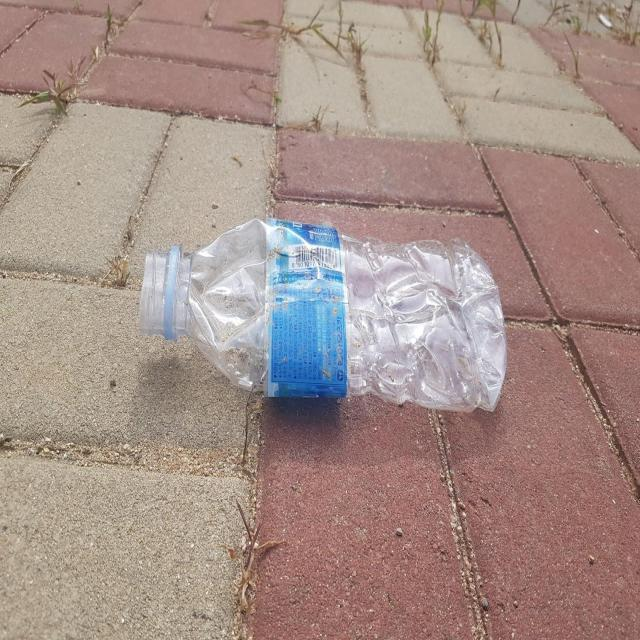plastic: (139, 218, 507, 411)
